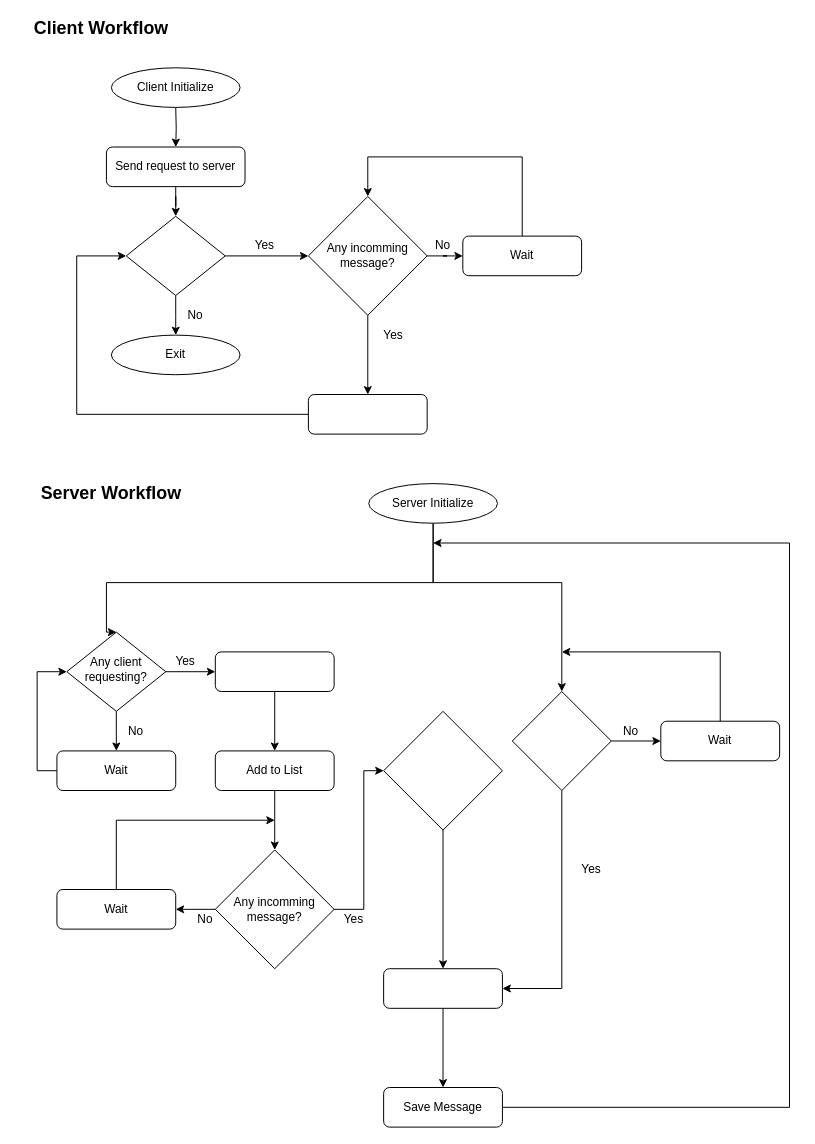
Some shapes in this 815 by 1144 pixel diagram are drawn without their labels. Here are the shapes that lost their labels. From the top down, the centre of each, then its label:
At (175,255): "Connected?".
At (367,414): "Print Message".
At (274,671): "Accept Client".
At (561,741): "Any console input?".
At (442,770): "Is receiver the sender?".
At (442,988): "Broadcast".
